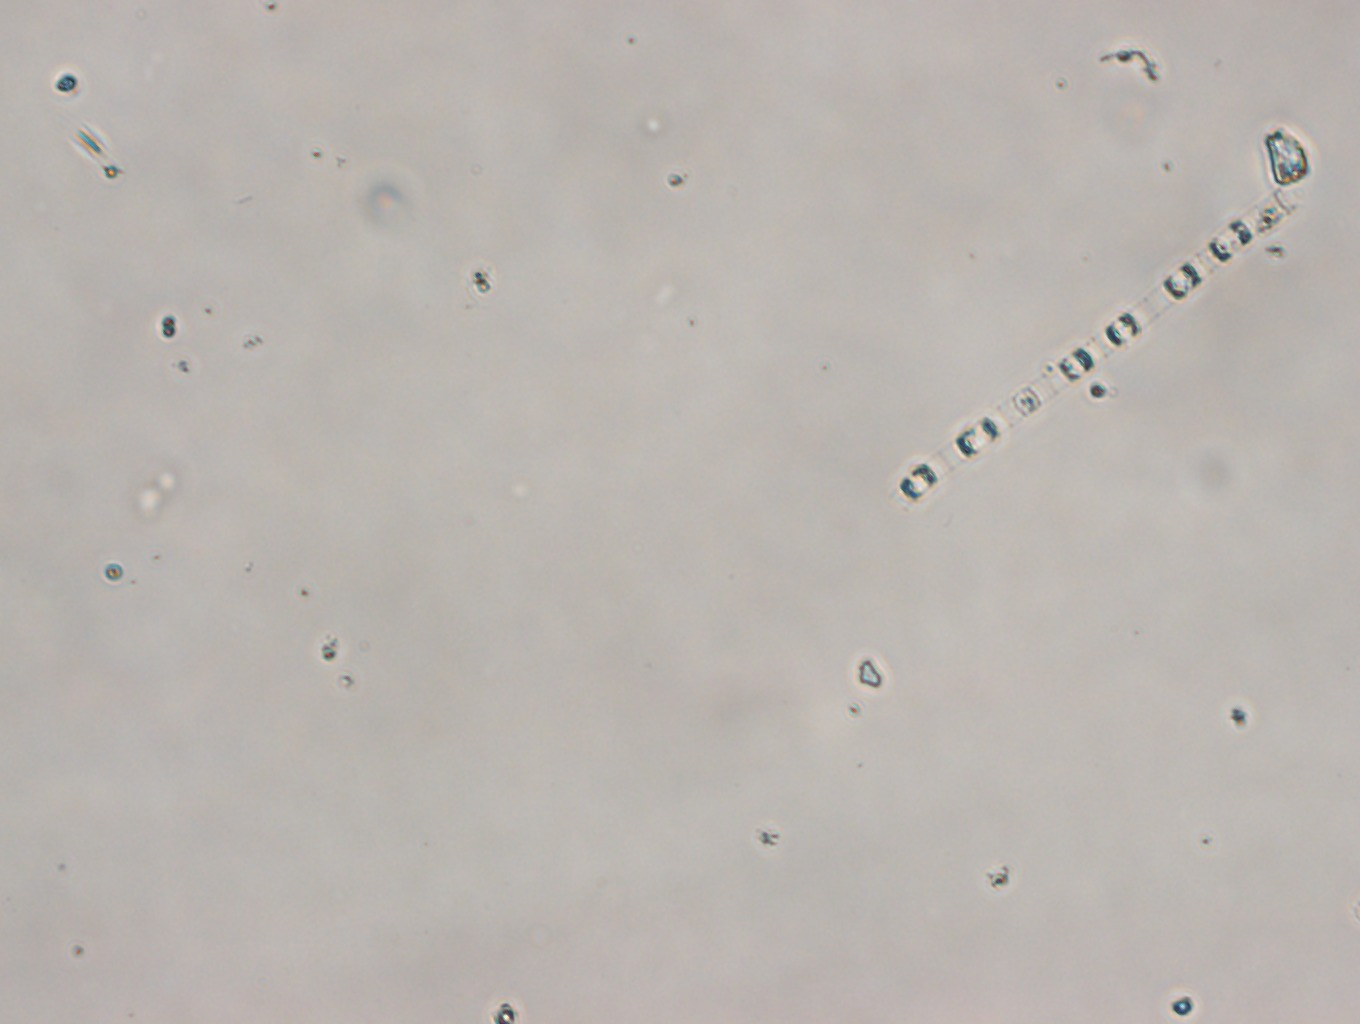skeletonema: (890, 185, 1300, 506)
